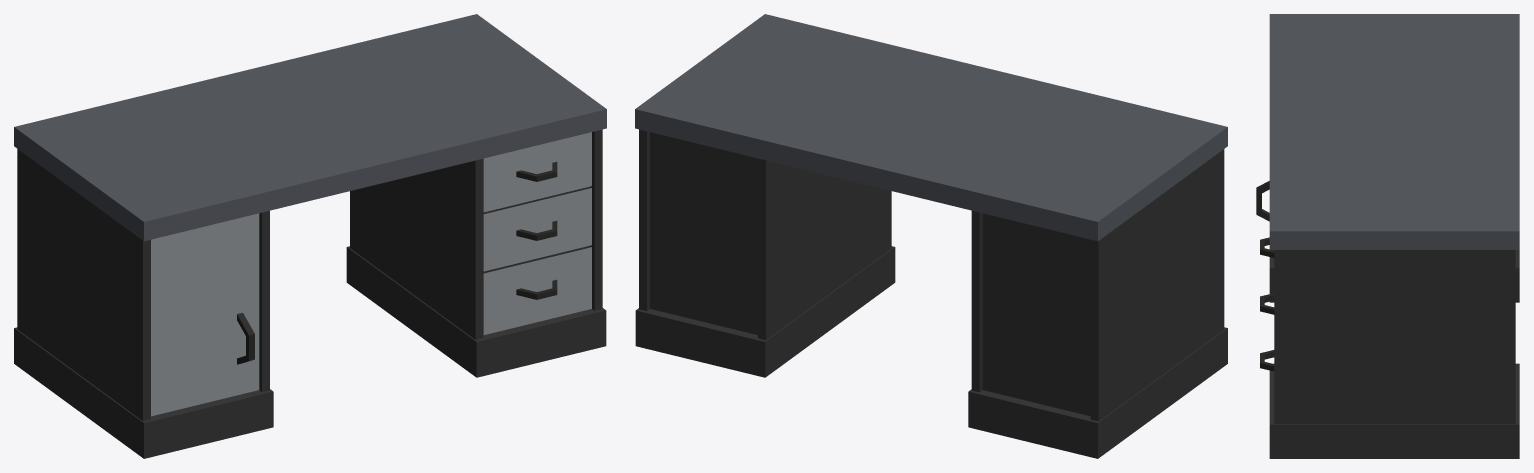
File: Desk_1C.fbx
The picture shows the model from 3 angles, left to right: view 1: azimuth 30°, elevation 25°; view 2: azimuth 150°, elevation 25°; view 3: azimuth 270°, elevation 25°; orthographic projection. The views are drawn at different scales.
Parts seen in each view (by area): view 1: polySurface1702; view 2: polySurface1702; view 3: polySurface1702.
Part boxes in pixels (box(x1,y1,x2,y2)): polySurface1702: box(14, 14, 606, 458); polySurface1702: box(635, 14, 1227, 458); polySurface1702: box(1256, 14, 1519, 458).
Size of the model in its own units: 2.05 by 1 by 1.05.
Materials: 1 (1 with a texture image).
